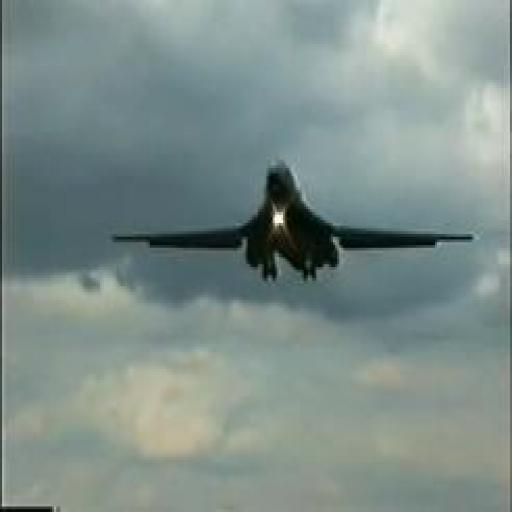aircraft: (108, 154, 479, 284)
